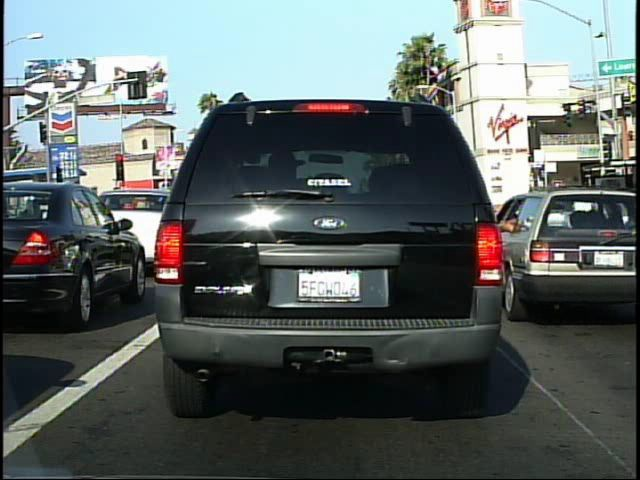person: (589, 184, 617, 240), (561, 182, 582, 238)
